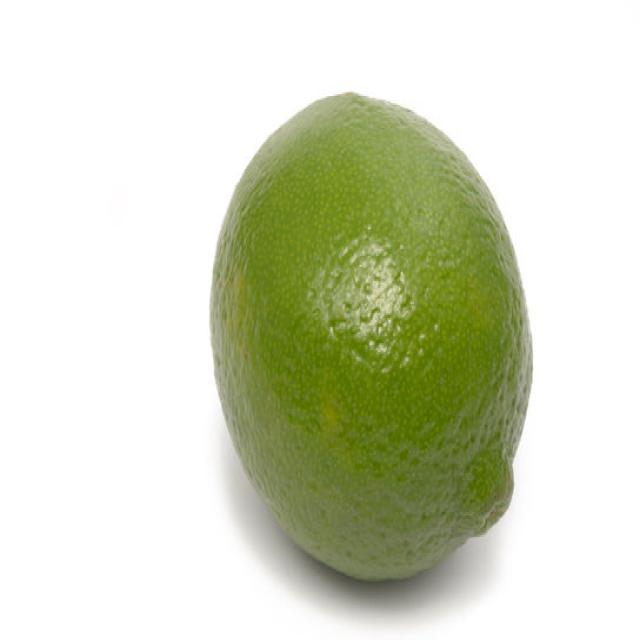Lemon: (208, 89, 533, 583)
